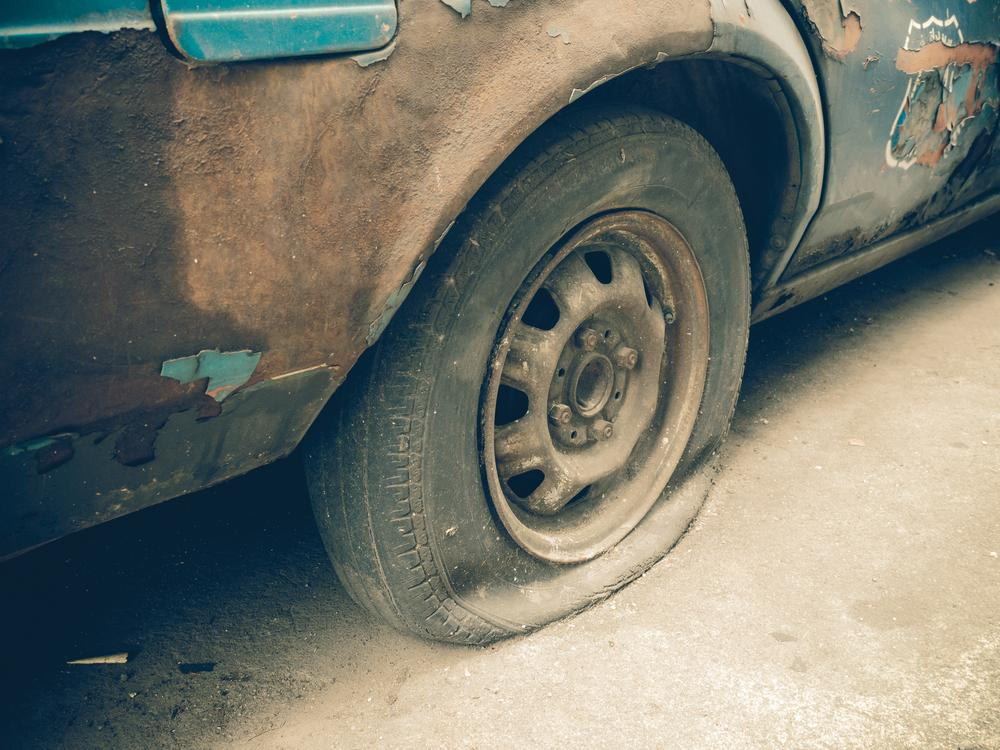tire flat: (306, 102, 753, 648)
